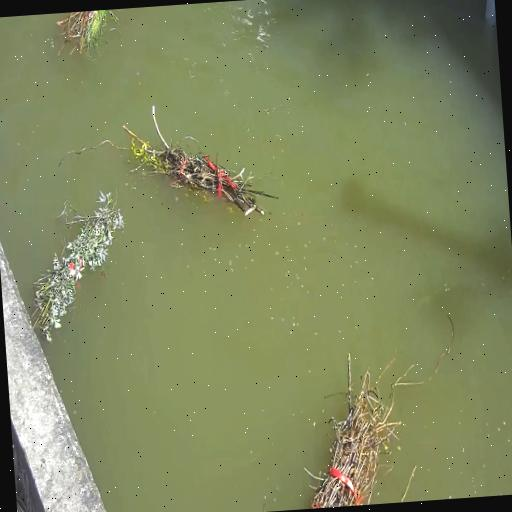twig: (124, 106, 278, 215), (34, 192, 125, 341), (312, 354, 399, 508), (57, 9, 118, 57)
